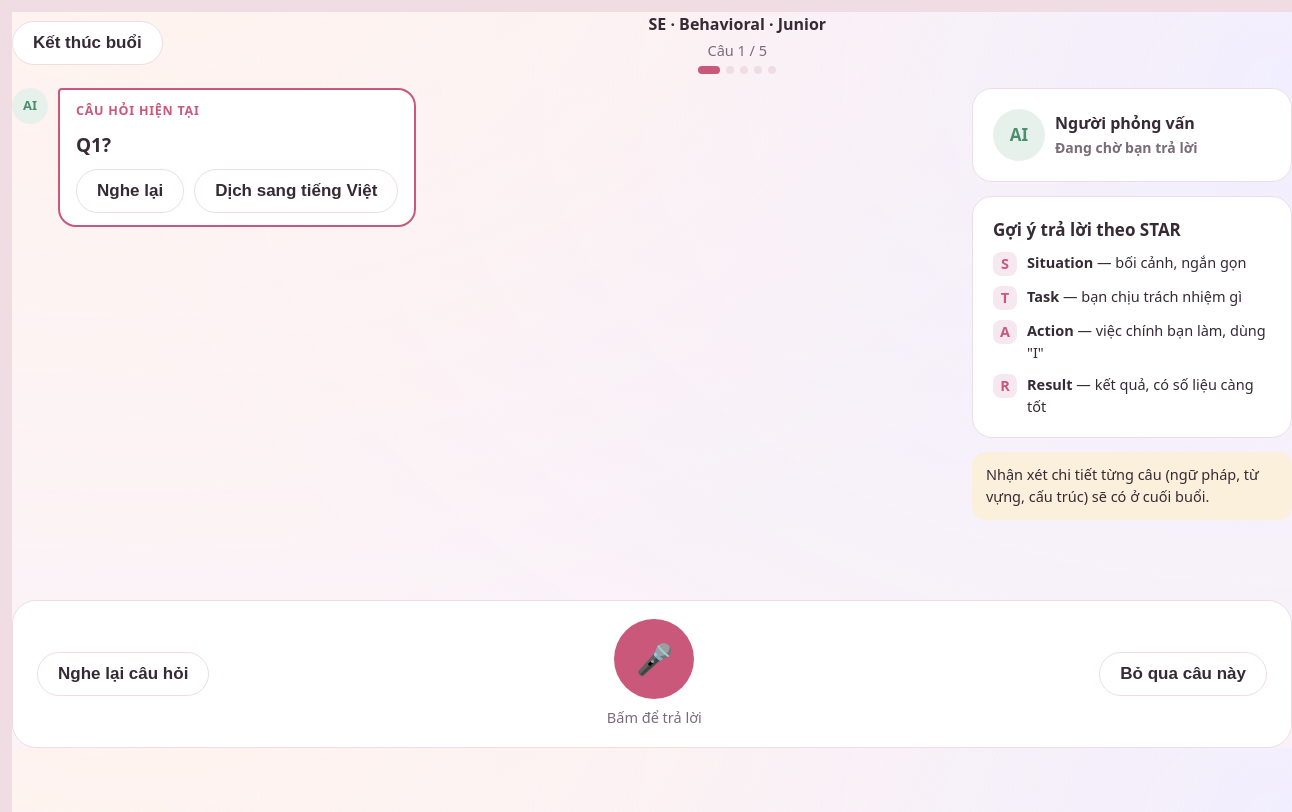
Test case: InterviewSessionPage › asks a follow-up when the AI decides to
Click the button named "Bắt đầu trả lời".
click(654, 659)  # box [614, 619, 694, 699]
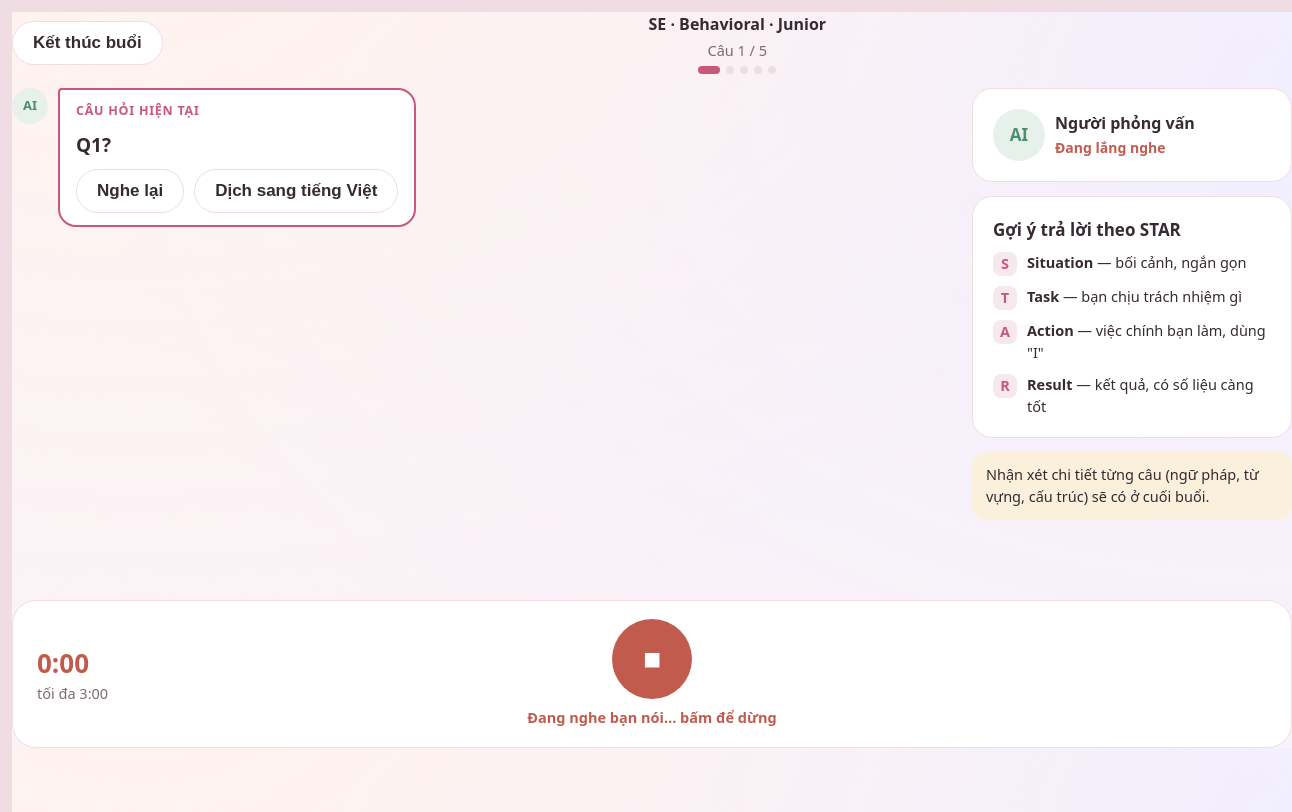
Click the button named "Dừng ghi âm".
click(652, 659)  # box [612, 619, 692, 699]
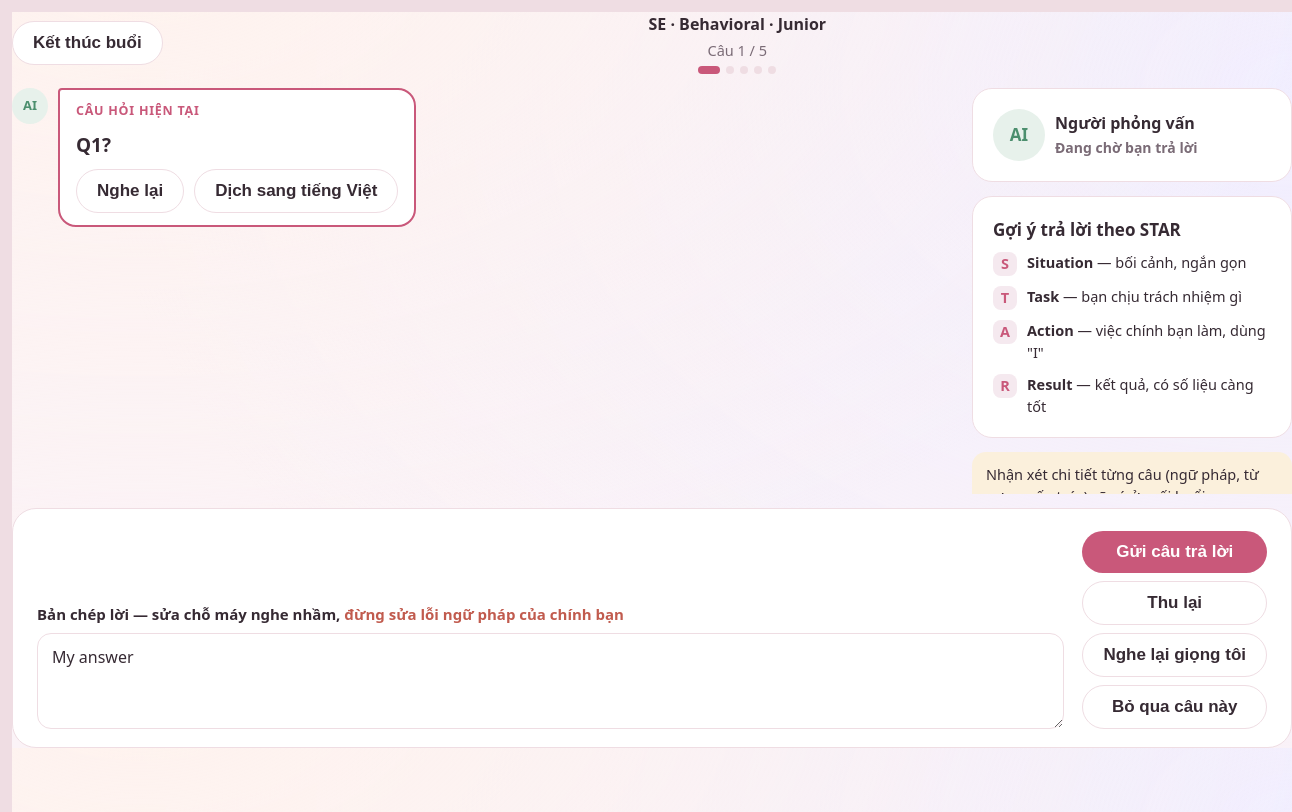
Result: the text box labelled "Bản chép lời" holds "My answer" at [37, 633, 1064, 729]
Click the button "Gửi câu trả lời".
click(1175, 552)  # box [1082, 531, 1267, 573]
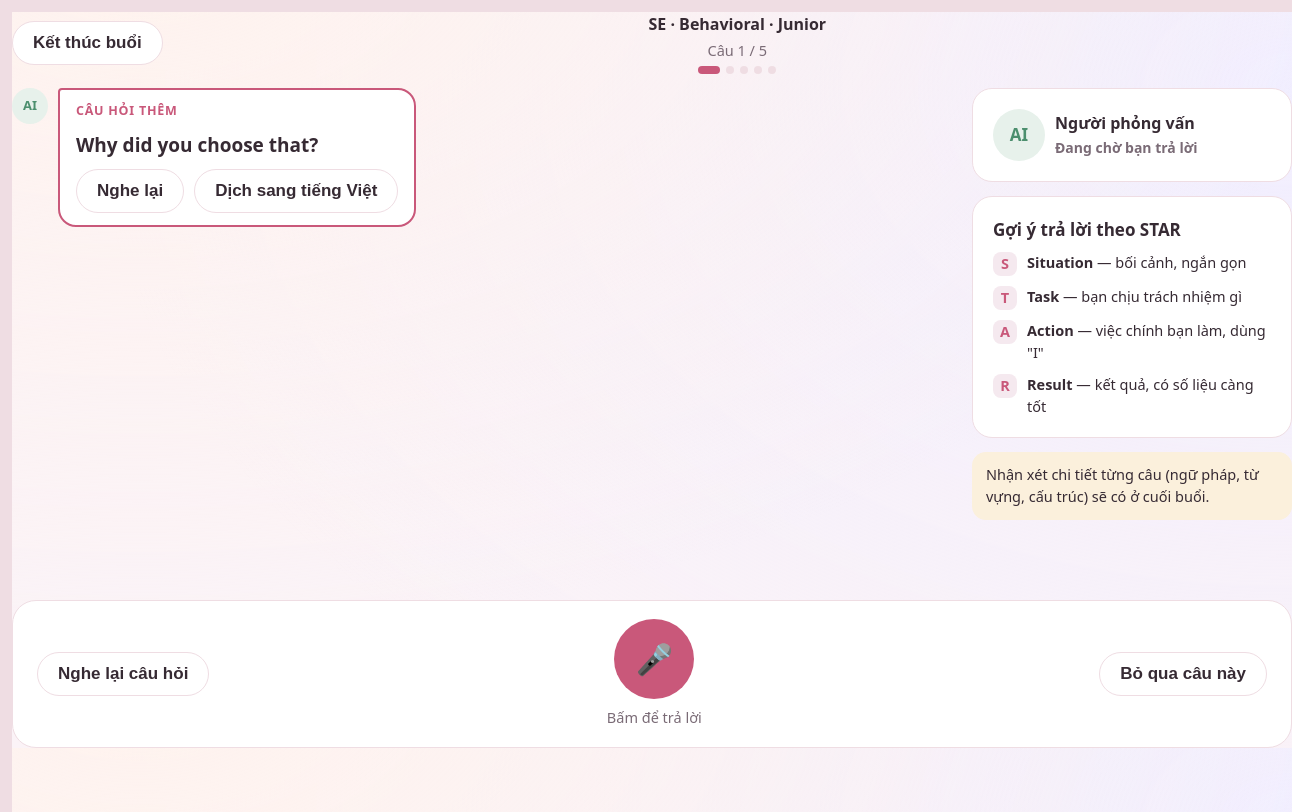
Result: the text "Why did you choose that?" is shown at [76, 132, 318, 158]
Result: the text "Câu hỏi thêm" is shown at [76, 102, 178, 119]
